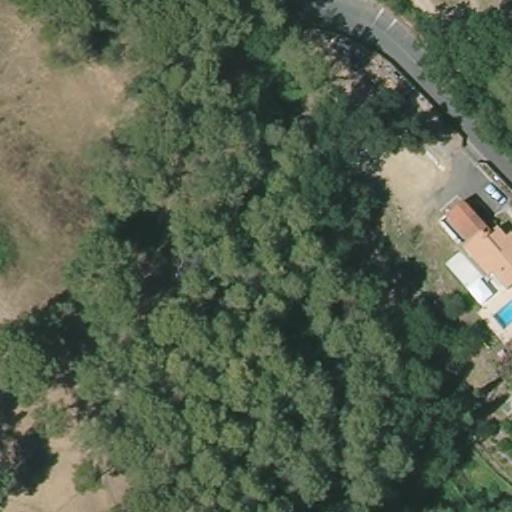pool: (491, 292, 512, 333)
